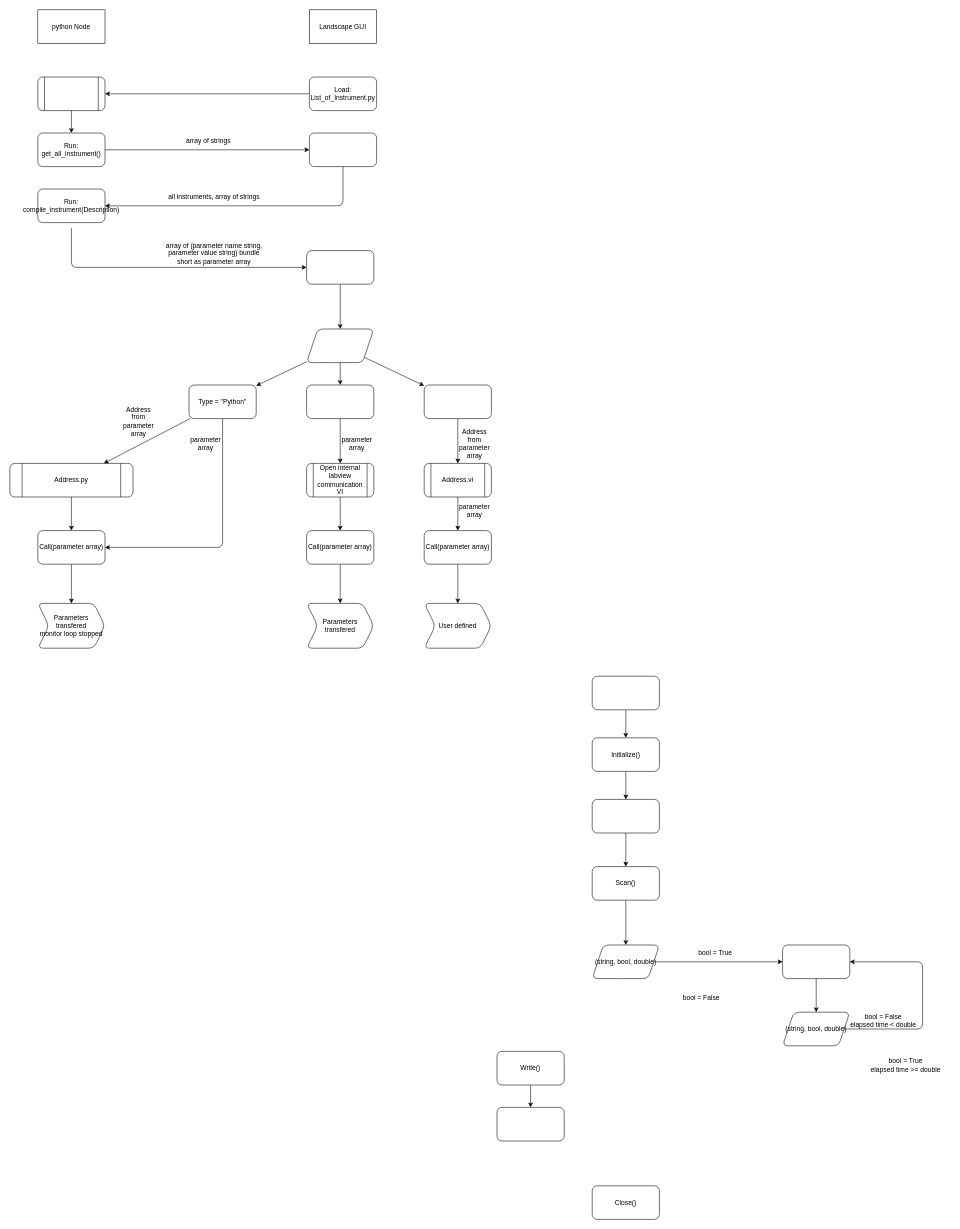
Image size: 960x1229. Some labels were removed from this diagram. Here are the shapes that lost their labels. From the top down, the box of each, then its label:
(37, 76, 105, 111): List_of_Instrument.py
(309, 132, 377, 167): Display: Descriptions of instrument list
(306, 250, 374, 284): Store: array of (Description, parameter array)
(306, 328, 374, 363): Parameter: Type
(306, 384, 374, 419): Type = "Default"
(424, 384, 491, 419): Type = "External"
(592, 676, 659, 710): Open()
(592, 799, 659, 833): Retrieve()
(782, 944, 850, 979): Approach()
(496, 1107, 564, 1141): Read()
